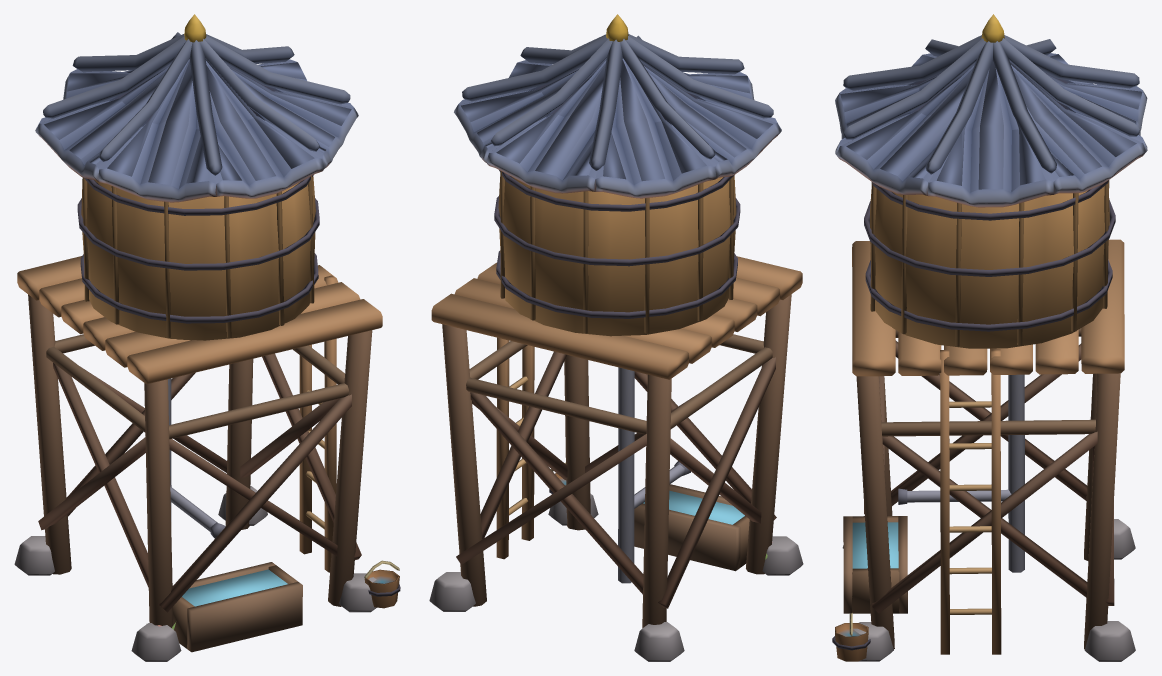
The model's file is waterTower.glb.
3 renders of one model, left to right at view 1: azimuth 30°, elevation 25°; view 2: azimuth 150°, elevation 25°; view 3: azimuth 270°, elevation 25°, orthographic. The views are drawn at different scales.
Parts seen in each view (by area): view 1: waterTower, water; view 2: waterTower, water; view 3: waterTower, water.
Boxes of the visible parts, <box> form: waterTower: <box>14,14,400,661</box>; water: <box>182,569,287,606</box>; waterTower: <box>429,14,803,661</box>; water: <box>643,490,744,524</box>; waterTower: <box>832,14,1147,661</box>; water: <box>852,522,898,568</box>.
Bounding box in the file's own units: 1.73 × 3.54 × 1.72.
